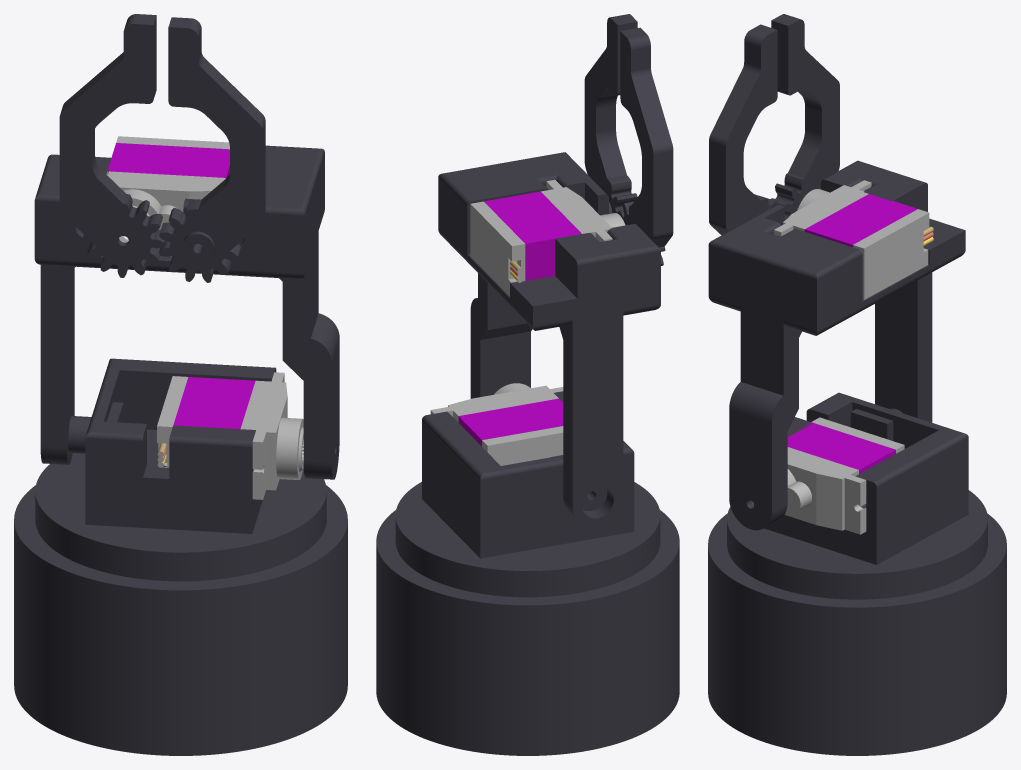
The model's file is hand_model.glb.
3 renders of one model, left to right at view 1: azimuth 30°, elevation 25°; view 2: azimuth 150°, elevation 25°; view 3: azimuth 270°, elevation 25°, orthographic. The views are drawn at different scales.
Visible parts, largest first — view 1: robotic arm.019, robotic arm.012, robotic arm.003, robotic arm.004, robotic arm.020, robotic arm.021, robotic arm.014, robotic arm.005, robotic arm.013, robotic arm.006, robotic arm.015, robotic arm.011 (+1 smaller); view 2: robotic arm.019, robotic arm.012, robotic arm.003, robotic arm.004, robotic arm.020, robotic arm.021, robotic arm.005, robotic arm.007, robotic arm.013, robotic arm.015, robotic arm.006, robotic arm.014; view 3: robotic arm.019, robotic arm.012, robotic arm.003, robotic arm.004, robotic arm.021, robotic arm.020, robotic arm.014, robotic arm.007, robotic arm.005, robotic arm.013, robotic arm.006, robotic arm.011 (+1 smaller).
Boxes of the visible parts, left/top/right/bottom form: robotic arm.019: left=14, top=485, right=347, bottom=755; robotic arm.012: left=34, top=145, right=339, bottom=479; robotic arm.003: left=85, top=358, right=276, bottom=533; robotic arm.004: left=35, top=453, right=326, bottom=581; robotic arm.020: left=59, top=14, right=165, bottom=277; robotic arm.021: left=159, top=17, right=265, bottom=282; robotic arm.014: left=240, top=372, right=303, bottom=499; robotic arm.005: left=107, top=143, right=229, bottom=177; robotic arm.013: left=173, top=377, right=255, bottom=428; robotic arm.006: left=106, top=171, right=225, bottom=229; robotic arm.015: left=157, top=376, right=188, bottom=467; robotic arm.011: left=68, top=402, right=123, bottom=453; robotic arm.019: left=376, top=510, right=679, bottom=755; robotic arm.012: left=438, top=152, right=660, bottom=527; robotic arm.003: left=422, top=391, right=634, bottom=558; robotic arm.004: left=395, top=482, right=660, bottom=597; robotic arm.020: left=618, top=27, right=673, bottom=265; robotic arm.021: left=584, top=14, right=637, bottom=213; robotic arm.005: left=484, top=191, right=581, bottom=280; robotic arm.007: left=470, top=201, right=525, bottom=295; robotic arm.013: left=458, top=398, right=563, bottom=446; robotic arm.015: left=482, top=426, right=563, bottom=465; robotic arm.006: left=541, top=180, right=625, bottom=241; robotic arm.014: left=430, top=383, right=563, bottom=422; robotic arm.019: left=708, top=513, right=1006, bottom=755; robotic arm.012: left=708, top=160, right=965, bottom=530; robotic arm.003: left=764, top=392, right=968, bottom=564; robotic arm.004: left=727, top=490, right=987, bottom=599; robotic arm.021: left=709, top=24, right=777, bottom=235; robotic arm.020: left=770, top=14, right=839, bottom=219; robotic arm.014: left=784, top=447, right=866, bottom=534; robotic arm.007: left=853, top=209, right=929, bottom=299; robotic arm.005: left=804, top=194, right=917, bottom=247; robotic arm.013: left=787, top=422, right=895, bottom=473; robotic arm.006: left=773, top=180, right=871, bottom=236; robotic arm.011: left=850, top=408, right=901, bottom=440.
Bounding box in the file's own units: 63.4 × 149 × 63.
